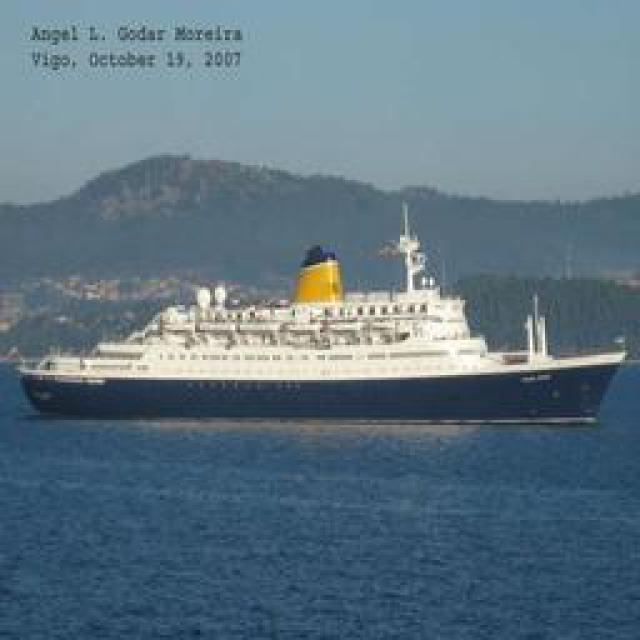Ship: (10, 210, 625, 420)
